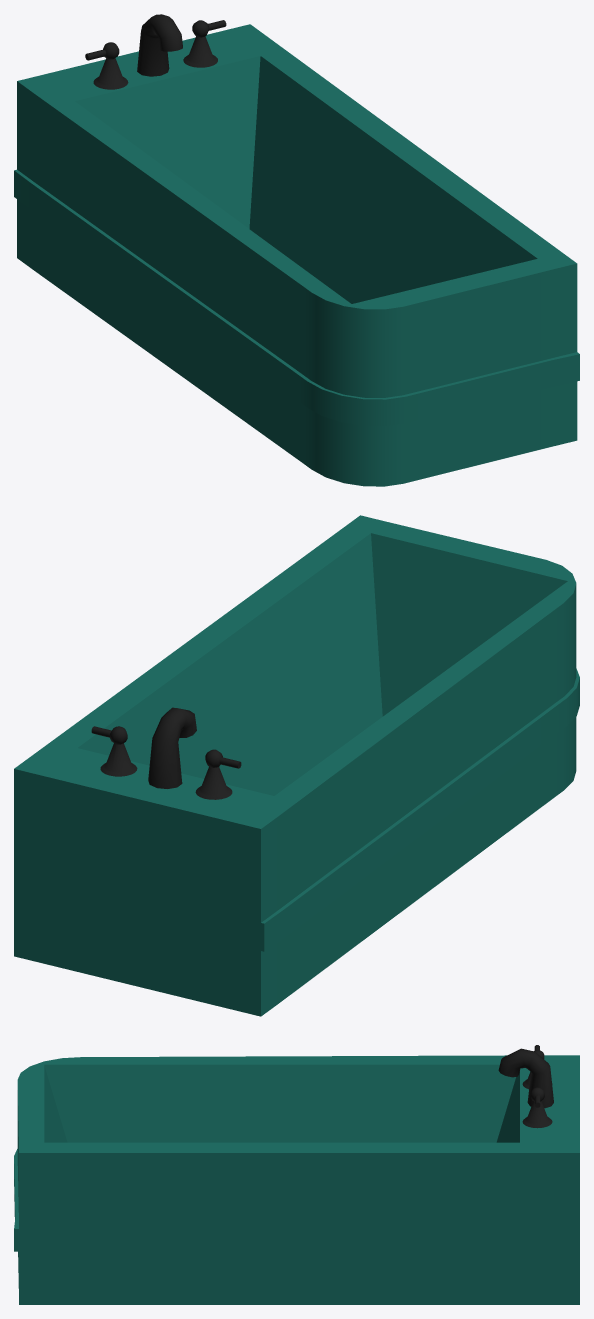
Rendered from RE_RBathTub.FBX.
3 renders of one model, top to bottom at view 1: azimuth 30°, elevation 25°; view 2: azimuth 150°, elevation 25°; view 3: azimuth 270°, elevation 25°, orthographic. The views are drawn at different scales.
Visible parts, largest first — view 1: RE_RBathTub; view 2: RE_RBathTub; view 3: RE_RBathTub.
Part boxes in pixels (x1,y1,x2,y2): RE_RBathTub: (14,14,579,486); RE_RBathTub: (14,515,579,1016); RE_RBathTub: (14,1045,579,1304).
Bounding box in the file's own units: 49.31 × 47.47 × 119.
